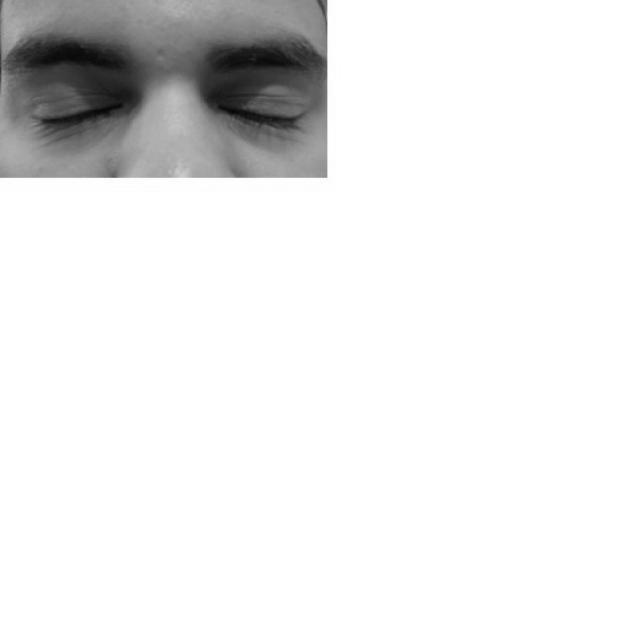real: (22, 54, 318, 156)
